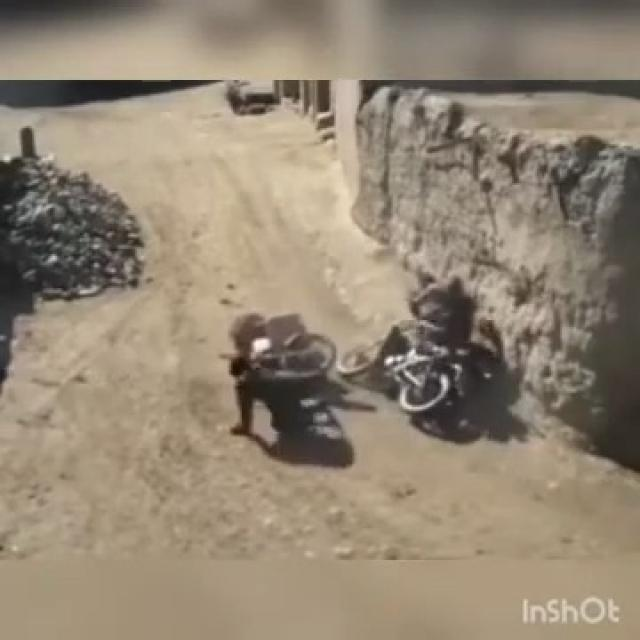accident: (352, 285, 509, 427), (230, 299, 356, 445)
